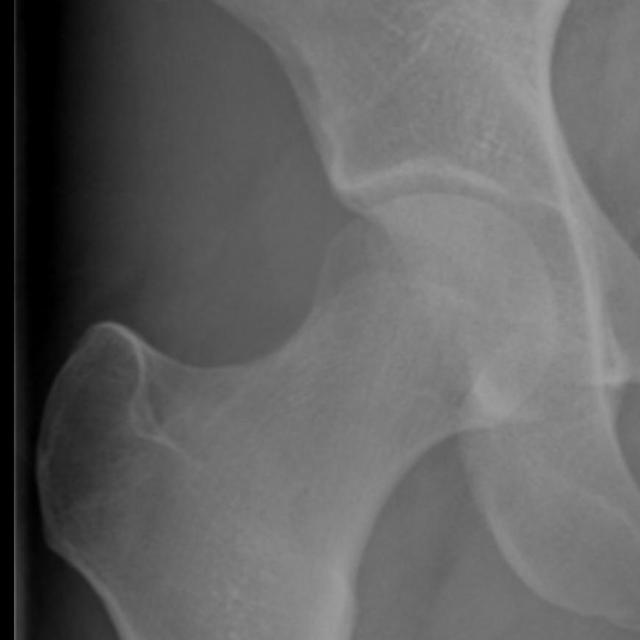Fitted_femural_head: (252, 191, 432, 252)
